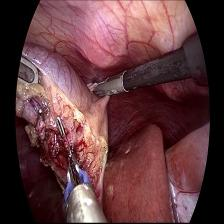Bipolar: (61, 152, 94, 214)
Grasper: (93, 72, 130, 99), (17, 56, 41, 90)
